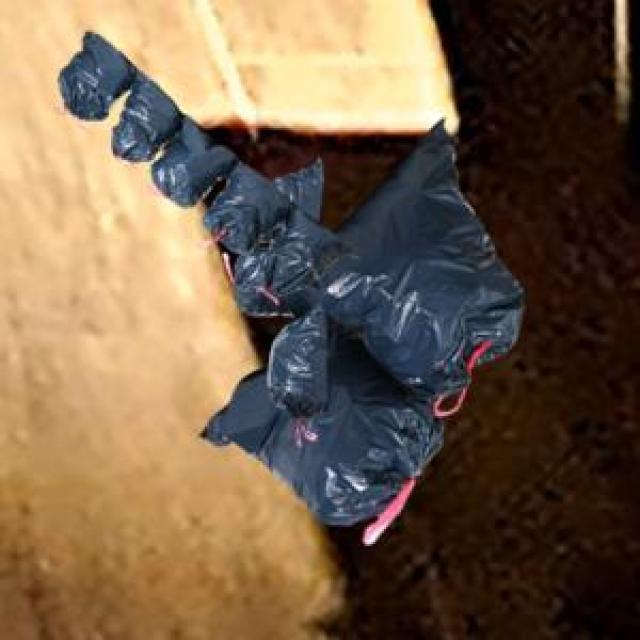Vinyl: (60, 32, 522, 541)
